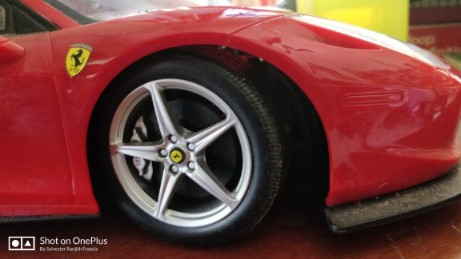unaligned_wheel: (93, 47, 327, 246)
